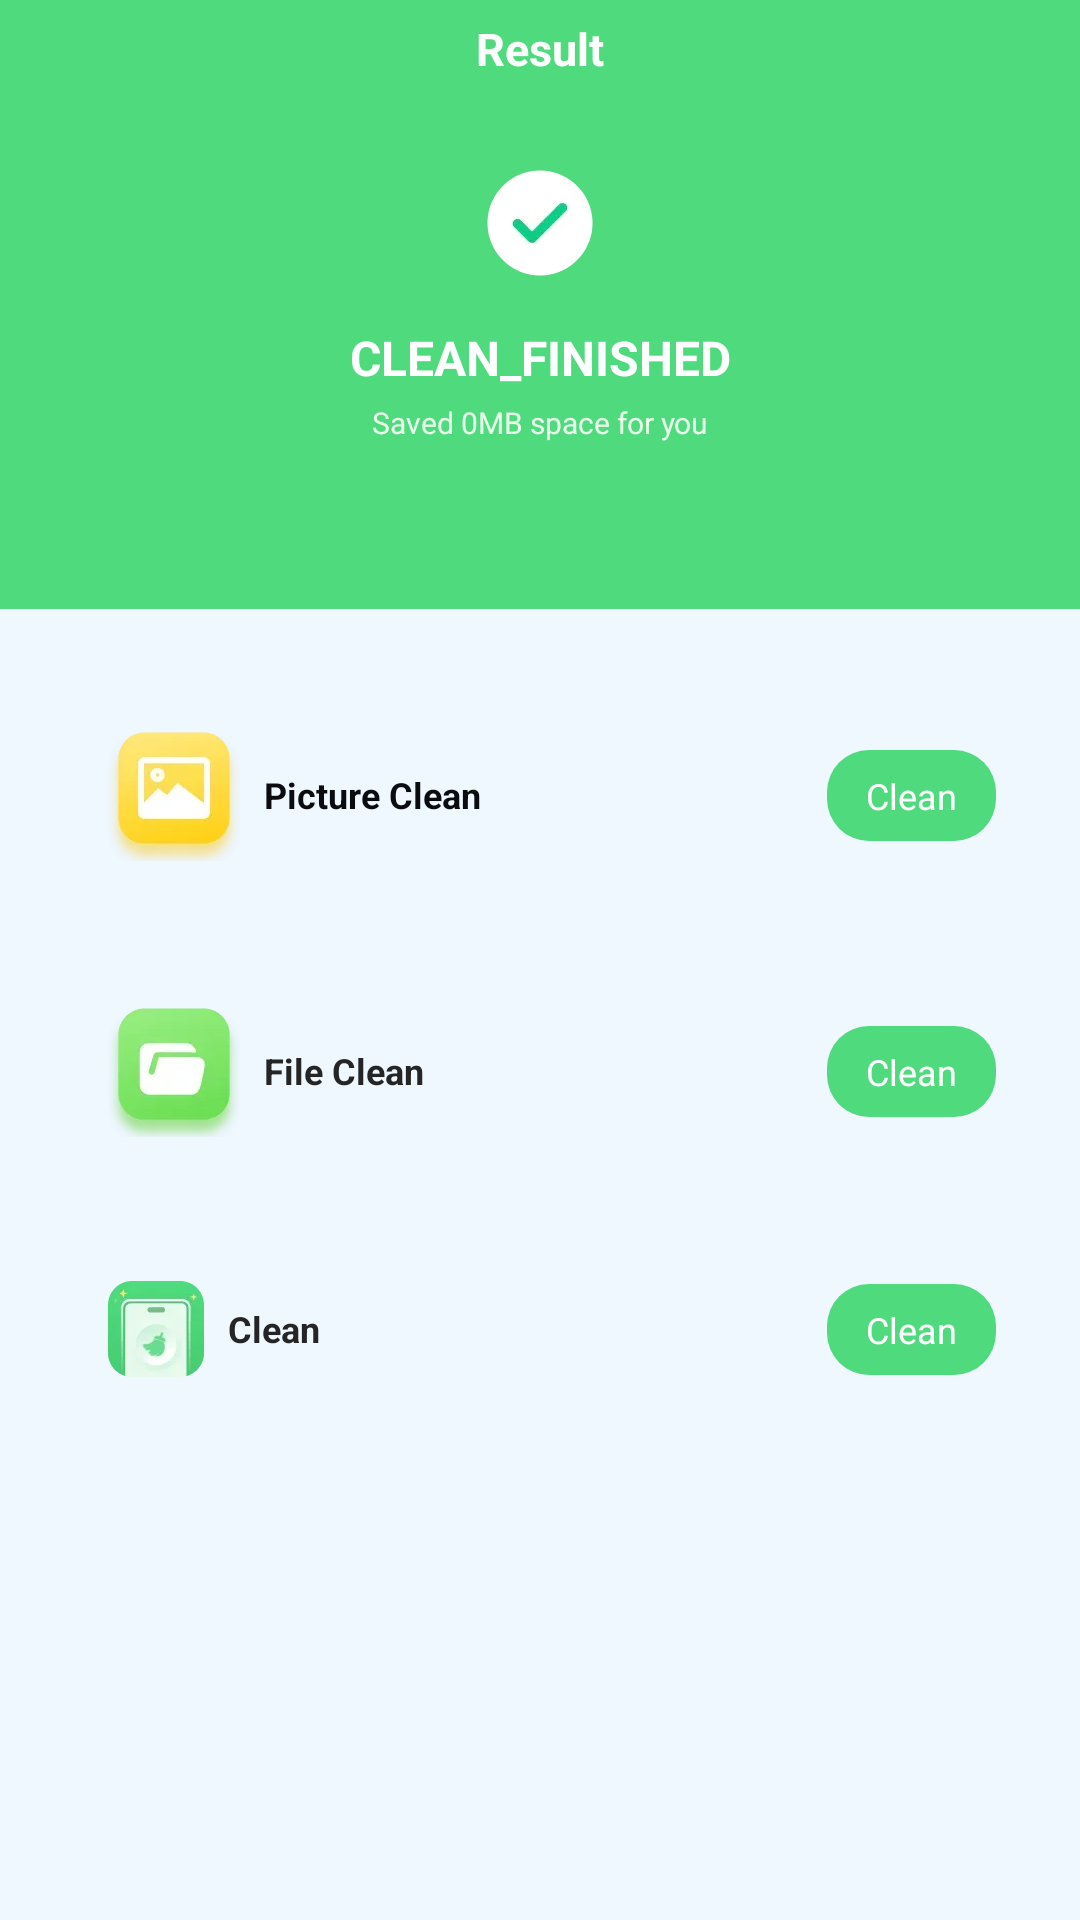

Icon click points for this 1080px x 1920px phone screenshot, format [x,y]:
wancheng: [540,223]
